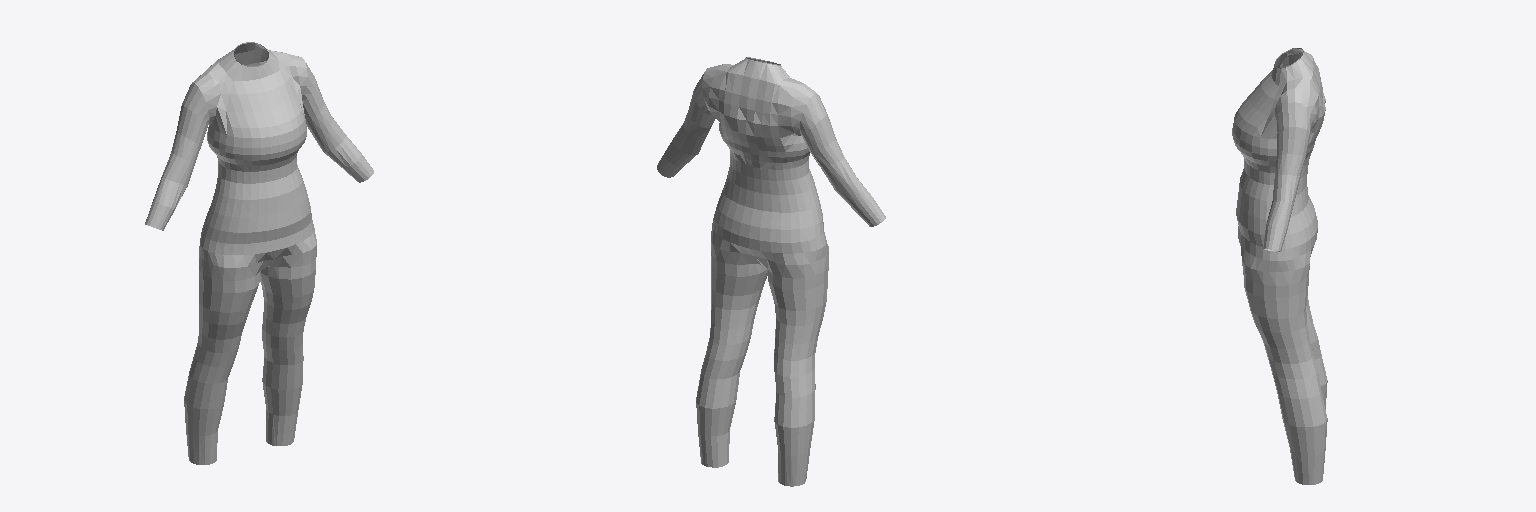
File: wet.obj
3 renders of one model, left to right at view 1: azimuth 30°, elevation 25°; view 2: azimuth 150°, elevation 25°; view 3: azimuth 270°, elevation 25°, orthographic.
Bounding box in the file's own units: 2.47 × 4.26 × 0.9006.